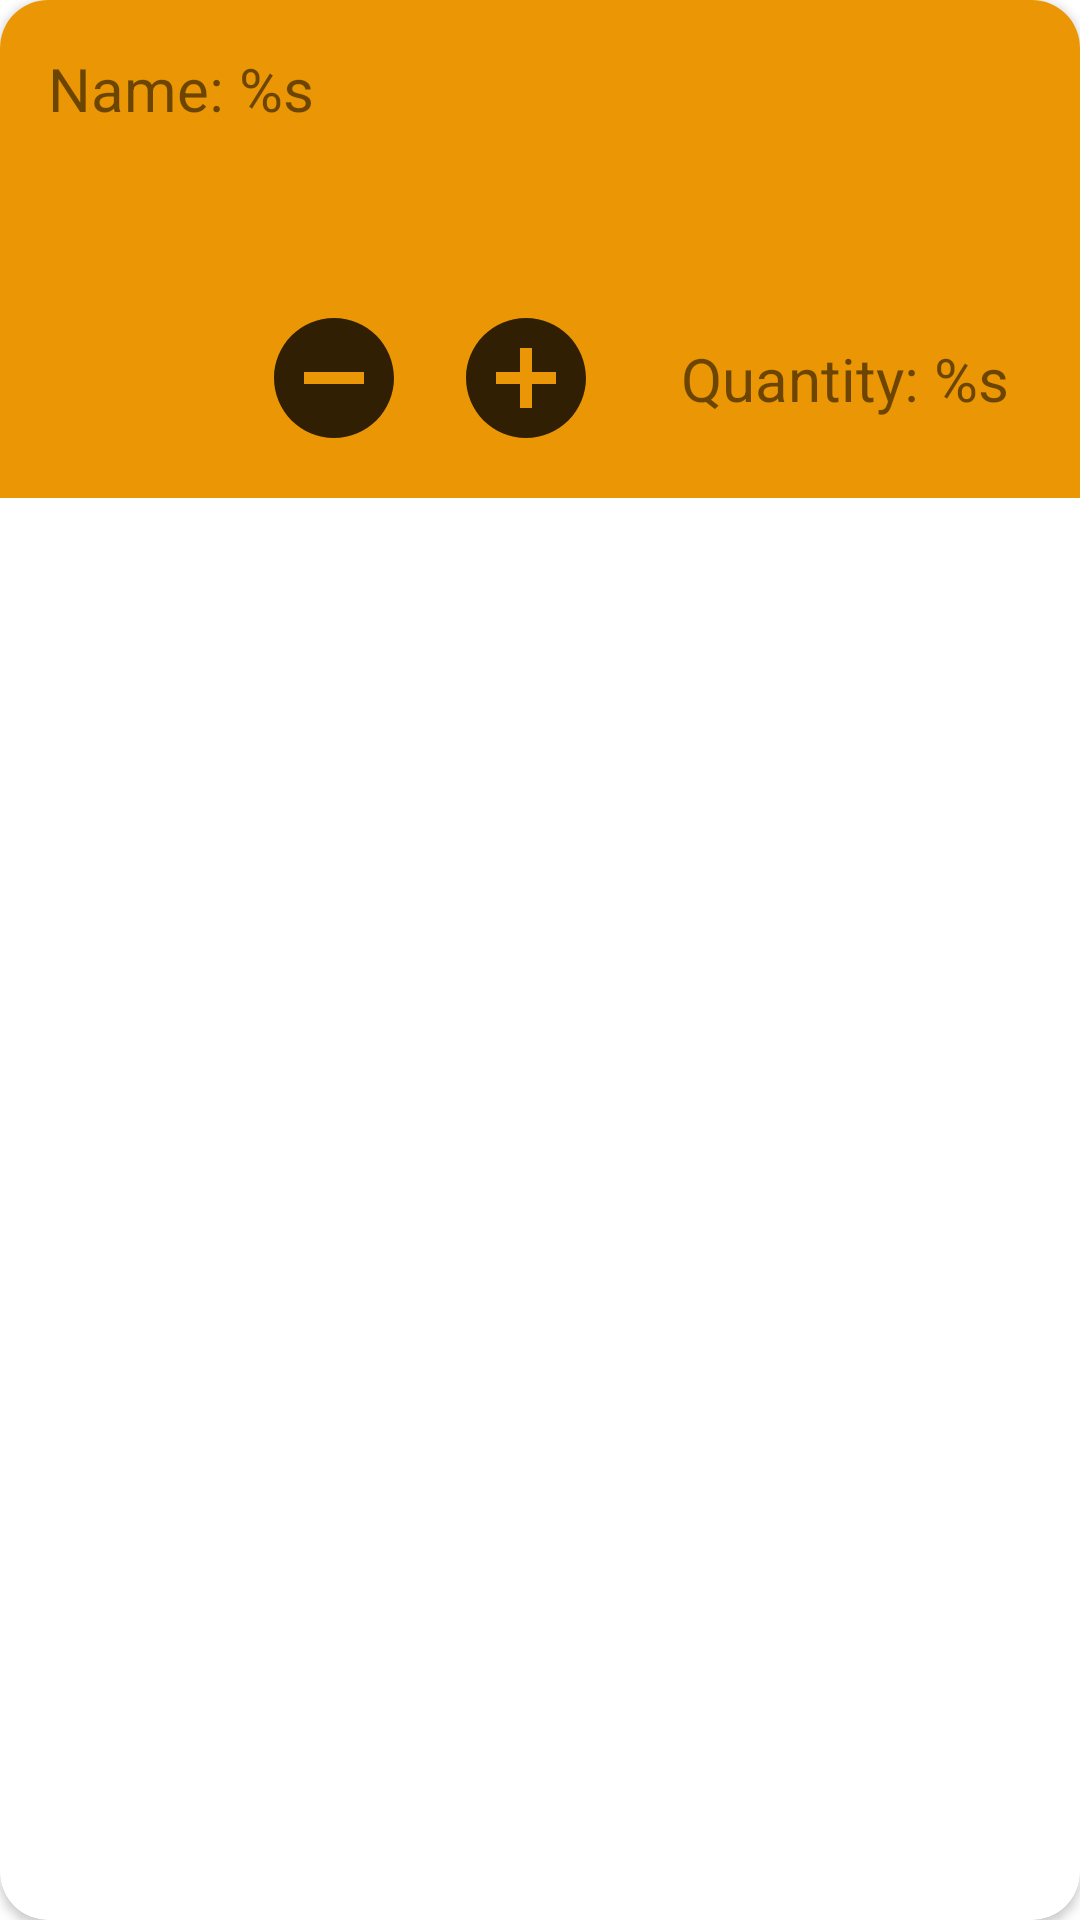

Icon bounding boxes for this 1080x1920 phone screenshot, format rect(x1, y1, x2, y2):
Add item quantity button: rect(466, 318, 586, 438)
Subtract item quantity button: rect(274, 318, 394, 438)
